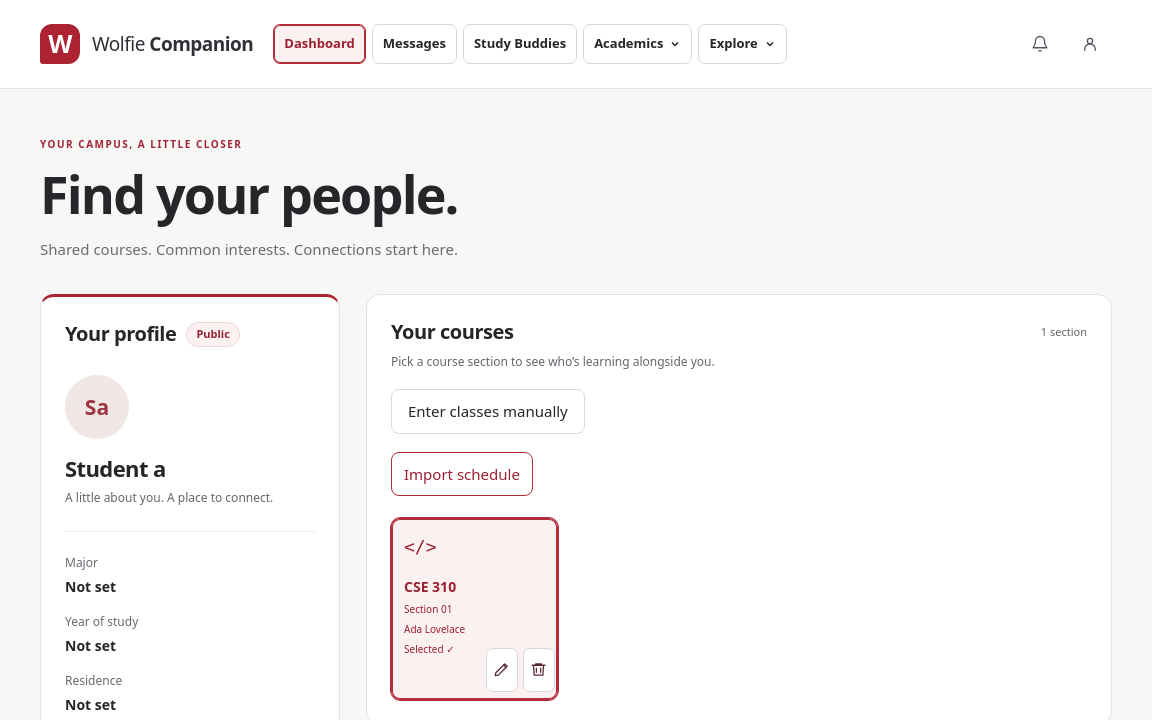
Scenario: dashboard edit refreshes the selected course and removal clears its course data
The image size is (1152, 720).
Expected: the text "CSE 310" is shown, [404, 576, 456, 597]
Click the button named "Edit CSE 310".
click(502, 670)  # box [486, 648, 518, 692]
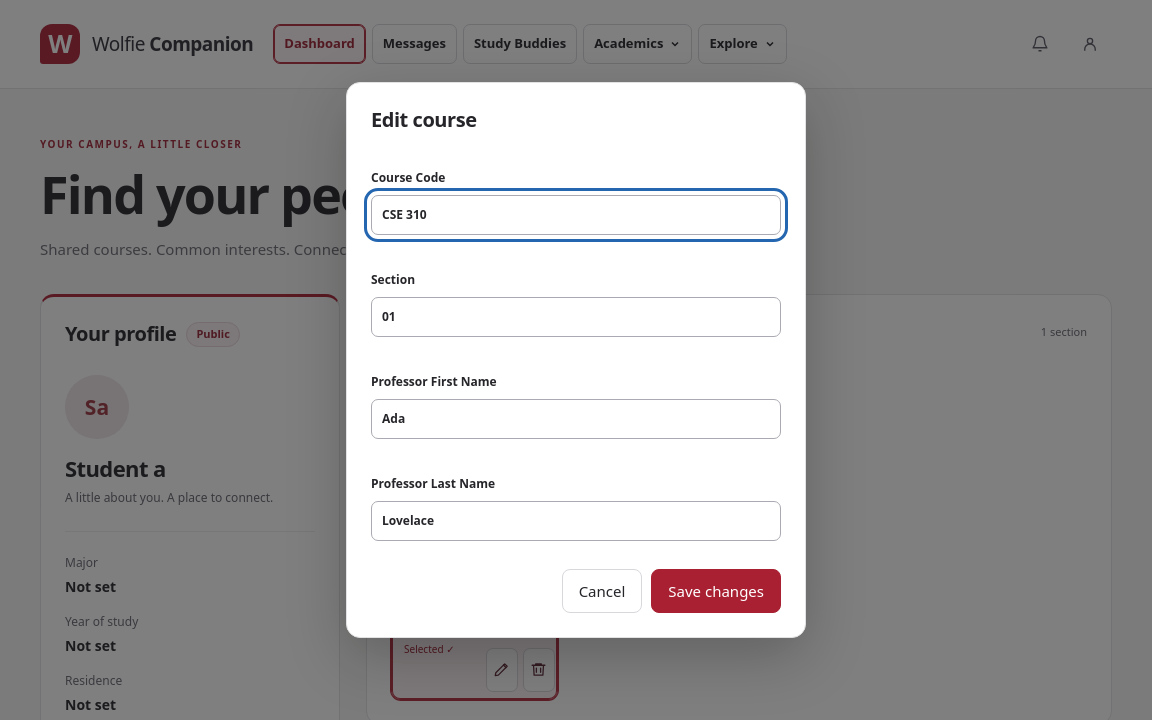
Type "CSE 316" into the field labelled "Course Code".
click(576, 215); type("CSE 316")  # box [371, 195, 781, 235]
Type "02" into the field labelled "Section".
click(576, 317); type("02")  # box [371, 297, 781, 337]
Replace the text in the field labelled "Professor First Name" with "Grace" at (576, 419), box [371, 399, 781, 439]
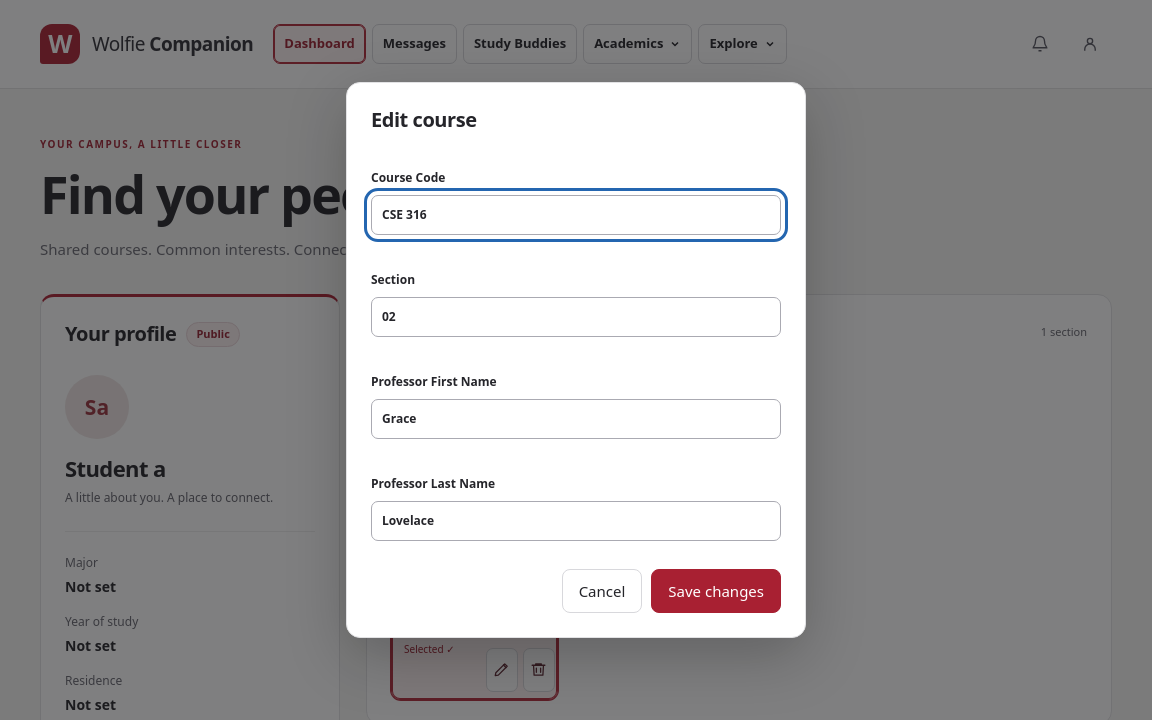
Replace the text in the field labelled "Professor Last Name" with "Hopper" at (576, 521), box [371, 501, 781, 541]
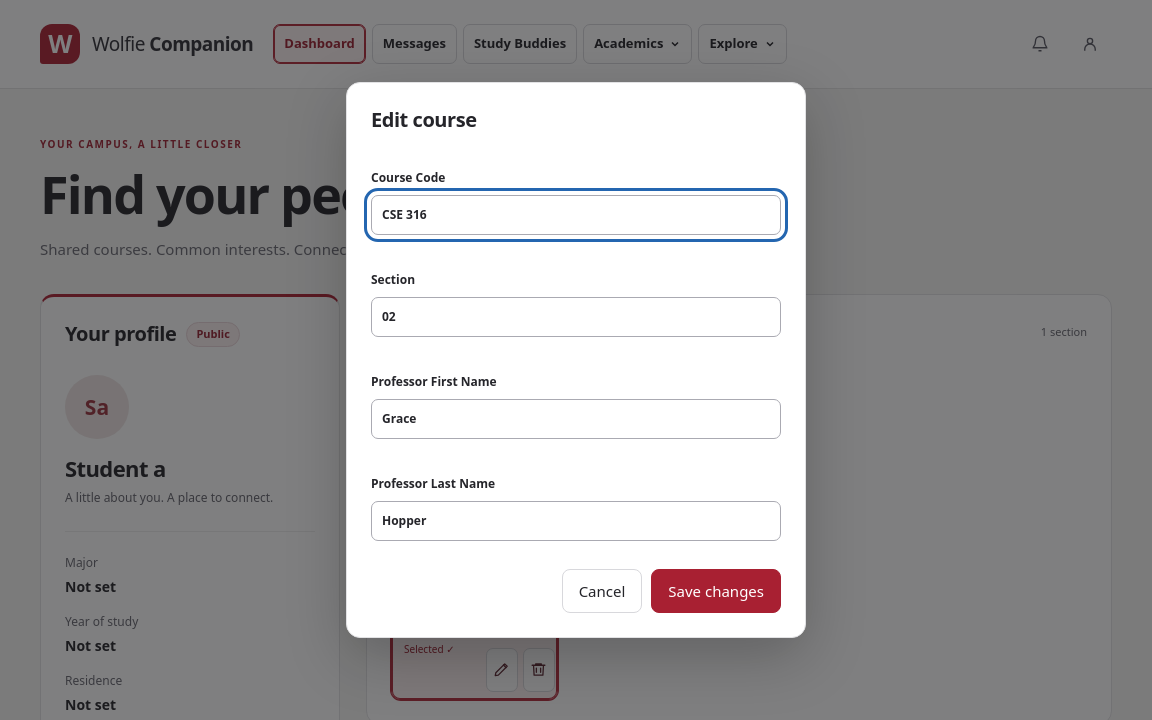
Click the button "Save changes".
click(716, 591)  # box [651, 569, 781, 613]
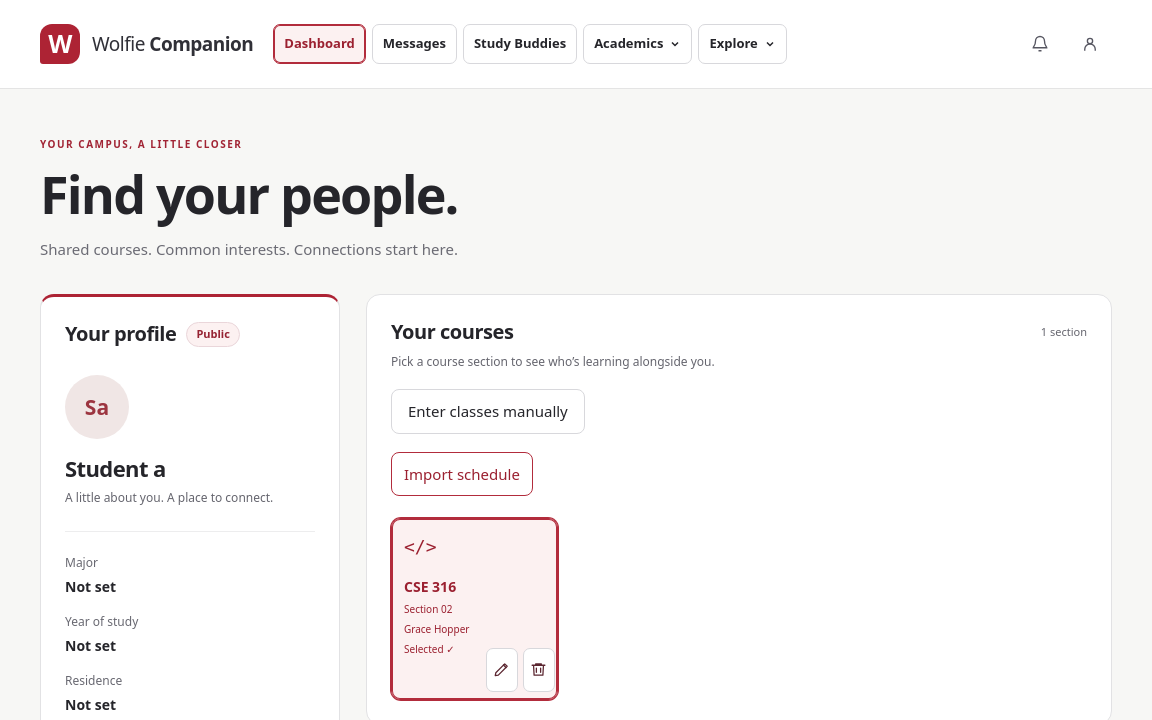
Click the button named "Delete CSE 316".
click(538, 670)  # box [522, 648, 554, 692]
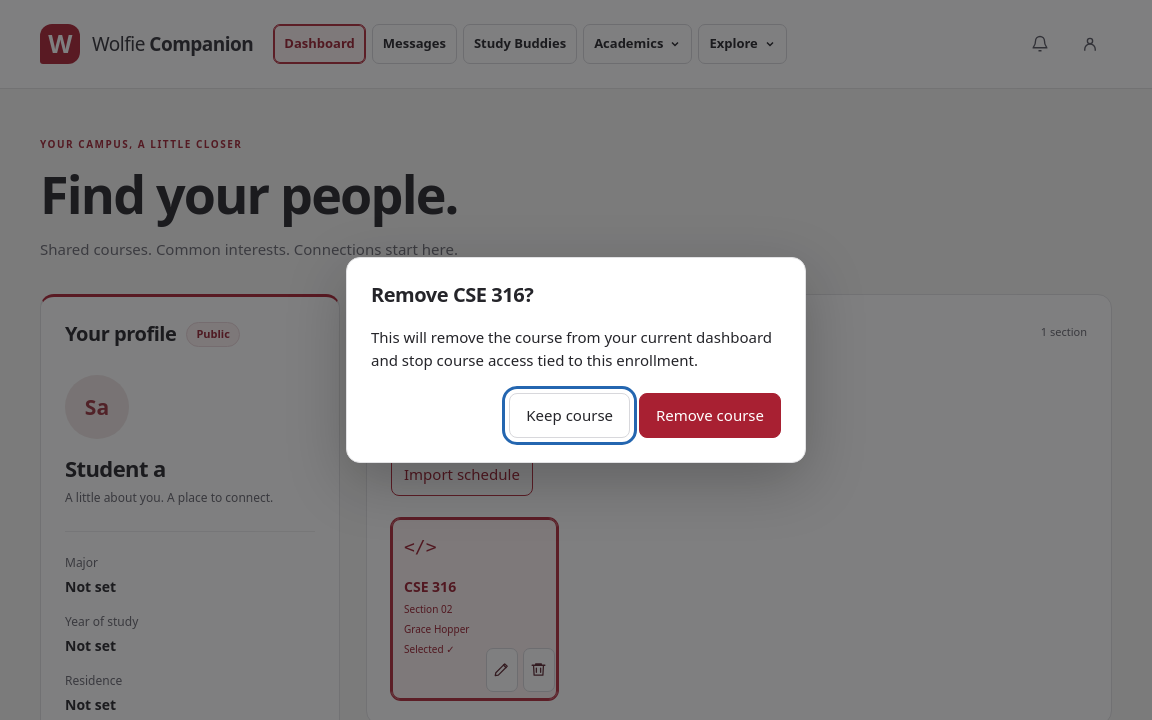
Click the button "Remove course".
click(710, 416)  # box [639, 393, 781, 438]
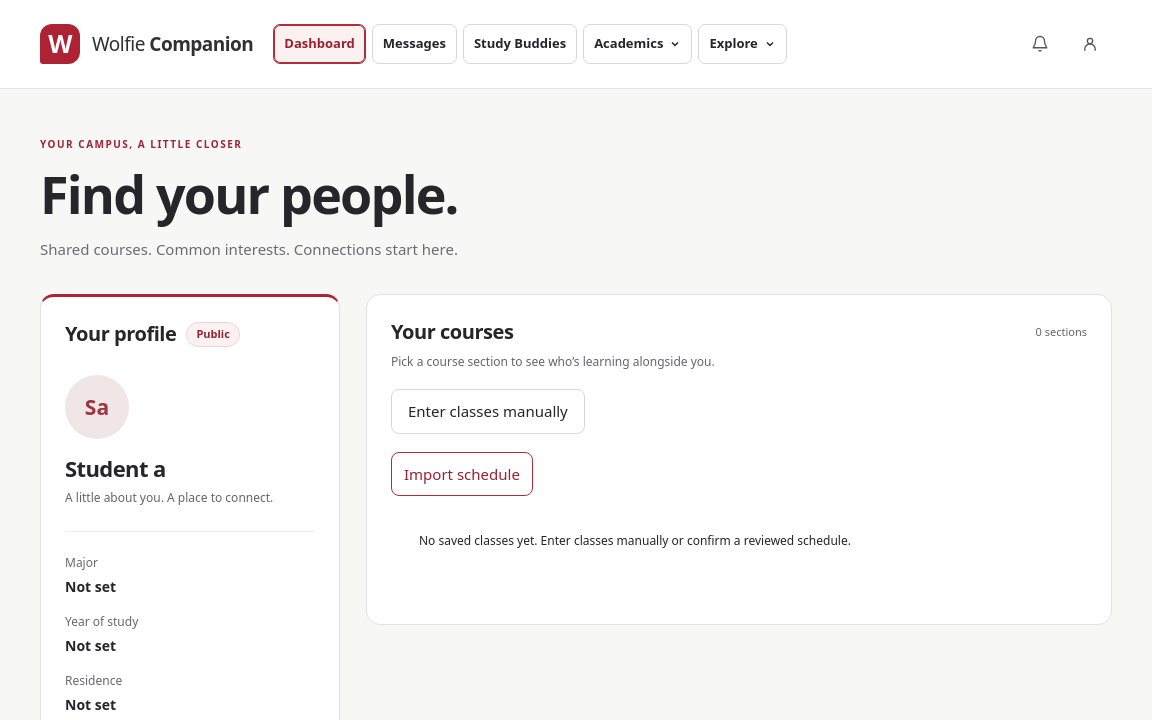
Now the text "No saved classes yet" is shown, box [419, 532, 851, 549]
